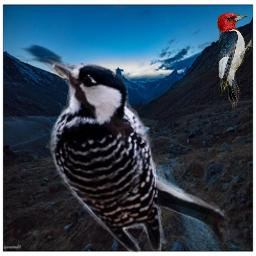Woodpecker: (43, 56, 230, 253), (215, 13, 255, 110)
